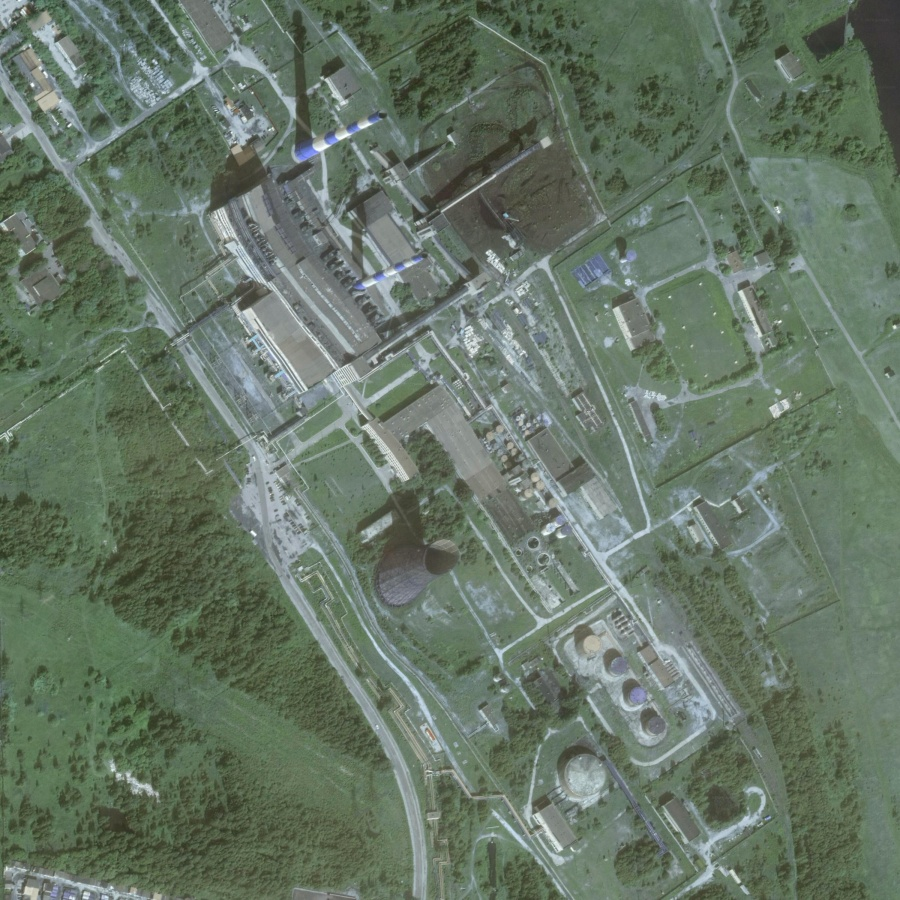PowerPlant: (261, 37, 567, 420), (350, 488, 479, 618), (564, 619, 667, 738)
